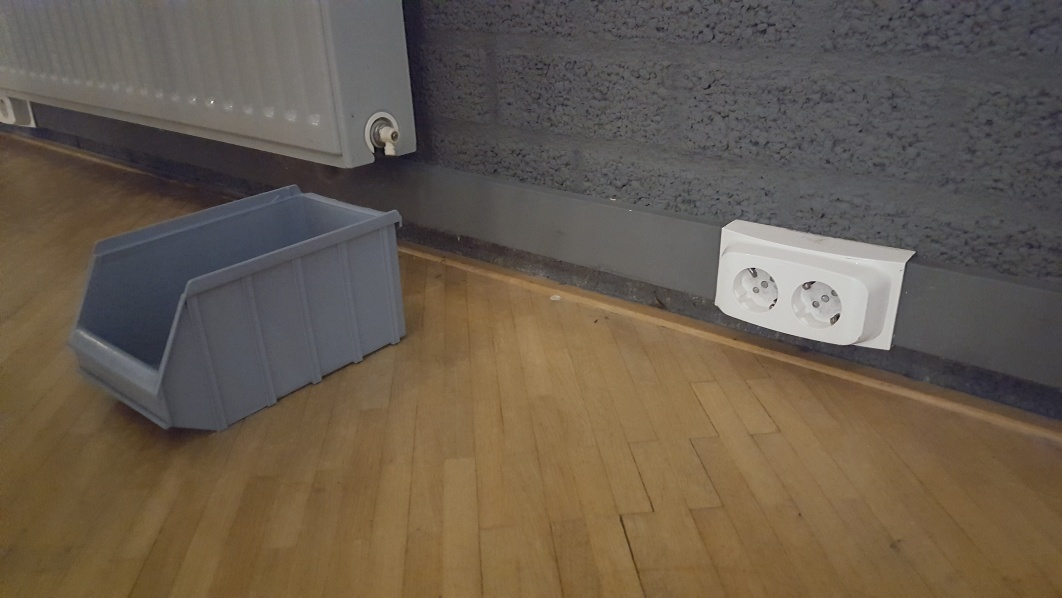tray: (72, 187, 409, 431)
